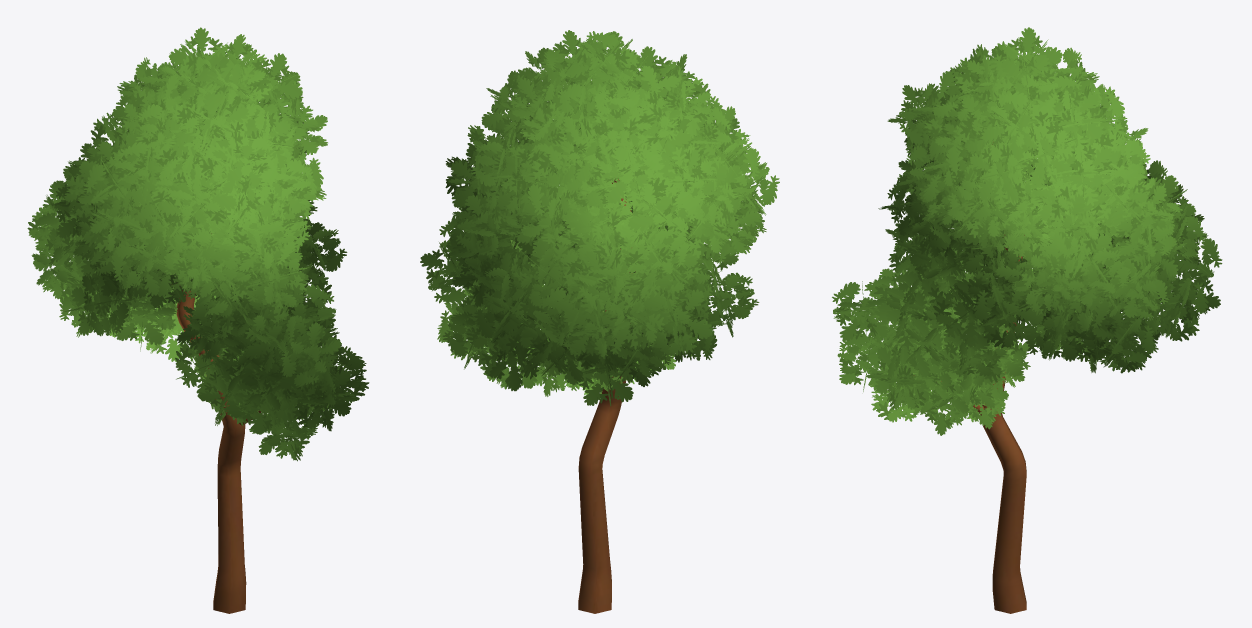
The model's file is STOak1.glb.
3 views of the same model, side by side, from view 1: azimuth 30°, elevation 25°; view 2: azimuth 150°, elevation 25°; view 3: azimuth 270°, elevation 25° (orthographic). The views are drawn at different scales.
Parts seen in each view (by area): view 1: STOak1_Leaves, STOak1_Trunk; view 2: STOak1_Leaves, STOak1_Trunk; view 3: STOak1_Leaves, STOak1_Trunk.
Part boxes in pixels (<box>): STOak1_Leaves: <box>27,27,369,461</box>; STOak1_Trunk: <box>172,233,260,613</box>; STOak1_Leaves: <box>420,30,779,406</box>; STOak1_Trunk: <box>578,179,632,613</box>; STOak1_Leaves: <box>832,27,1222,435</box>; STOak1_Trunk: <box>913,142,1026,613</box>.
Size of the model in its own units: 11.63 by 21.8 by 14.23.
Materials: 2 (2 with a texture image).
